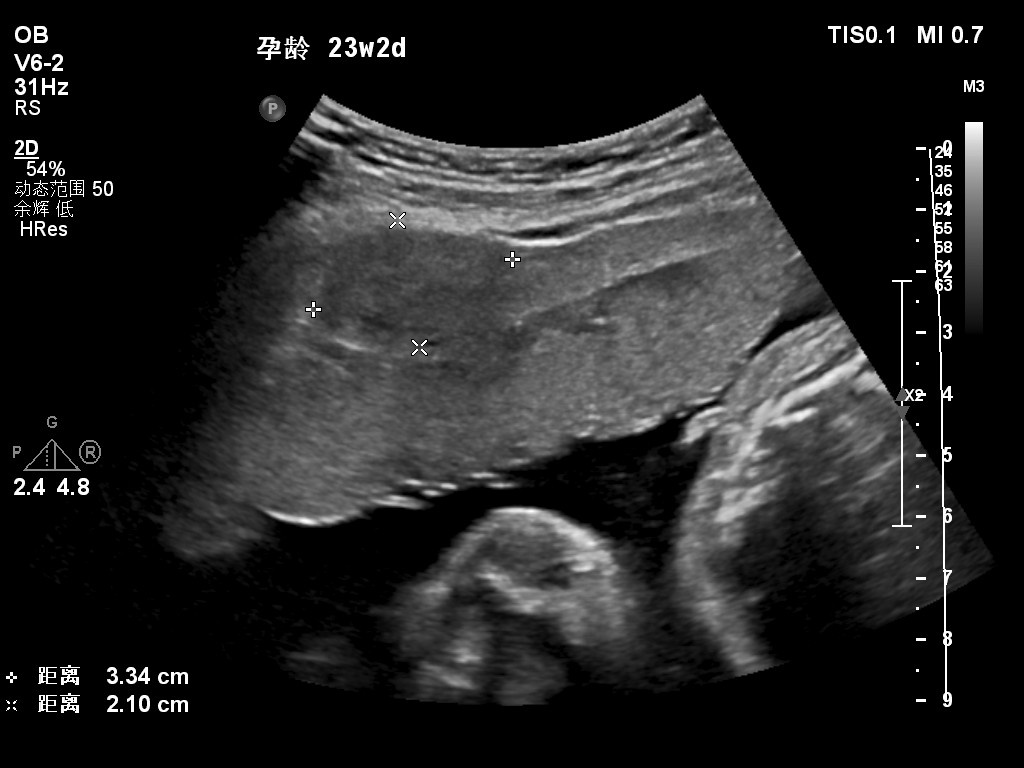肌瘤: (312, 220, 510, 350)
